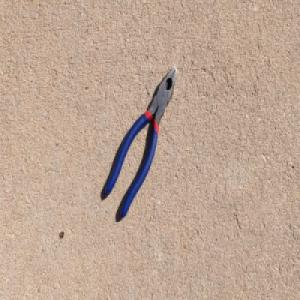Pliers: (103, 66, 177, 221)
